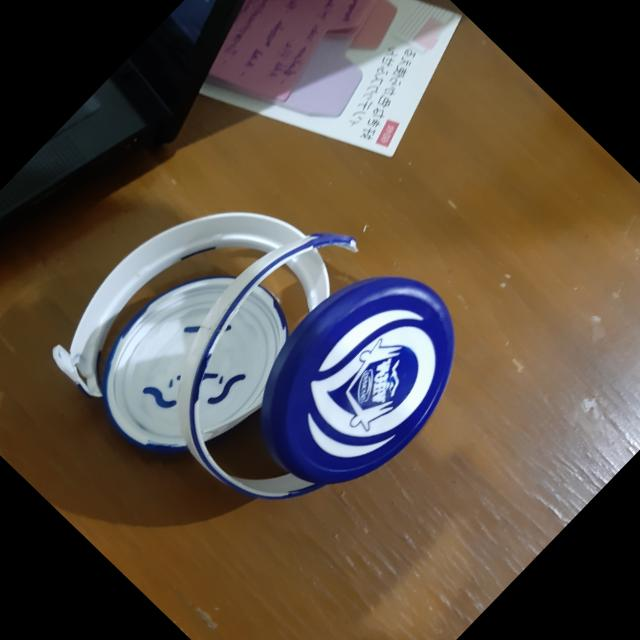TutupGalon: (0, 110, 498, 623)
